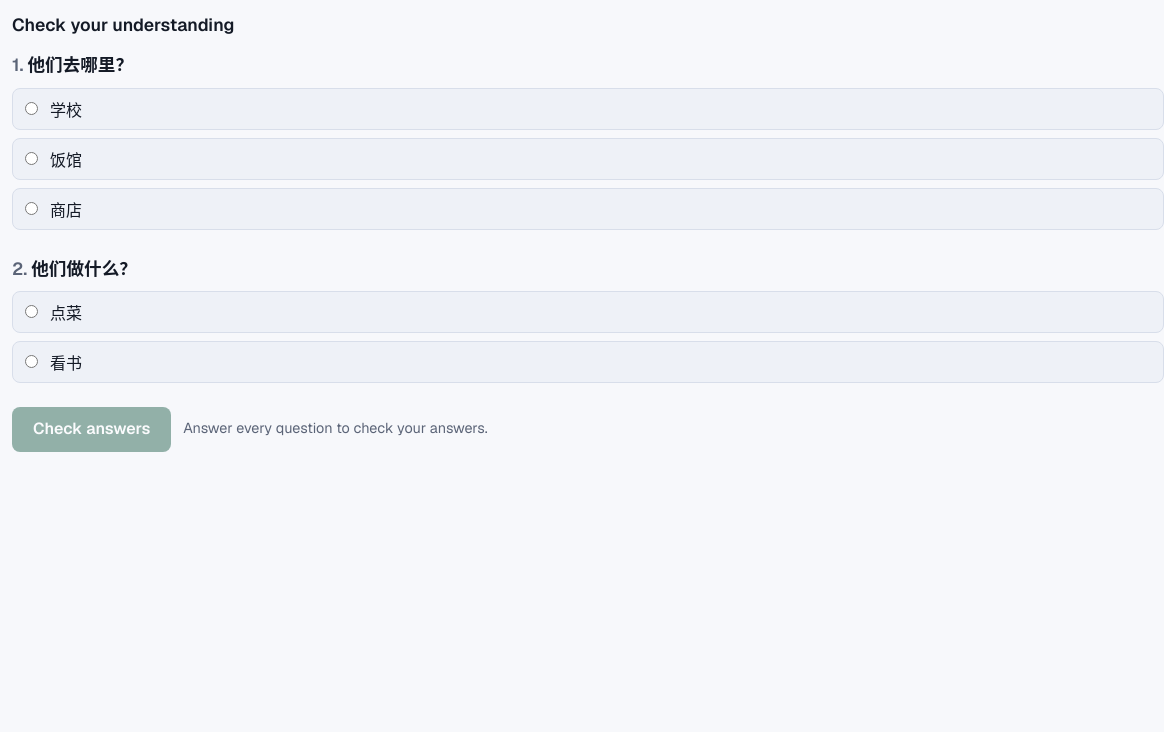
Test: StoryQuiz › starts over on try again
Click the radio button labelled "饭馆": click(32, 158) [25,152,38,165]
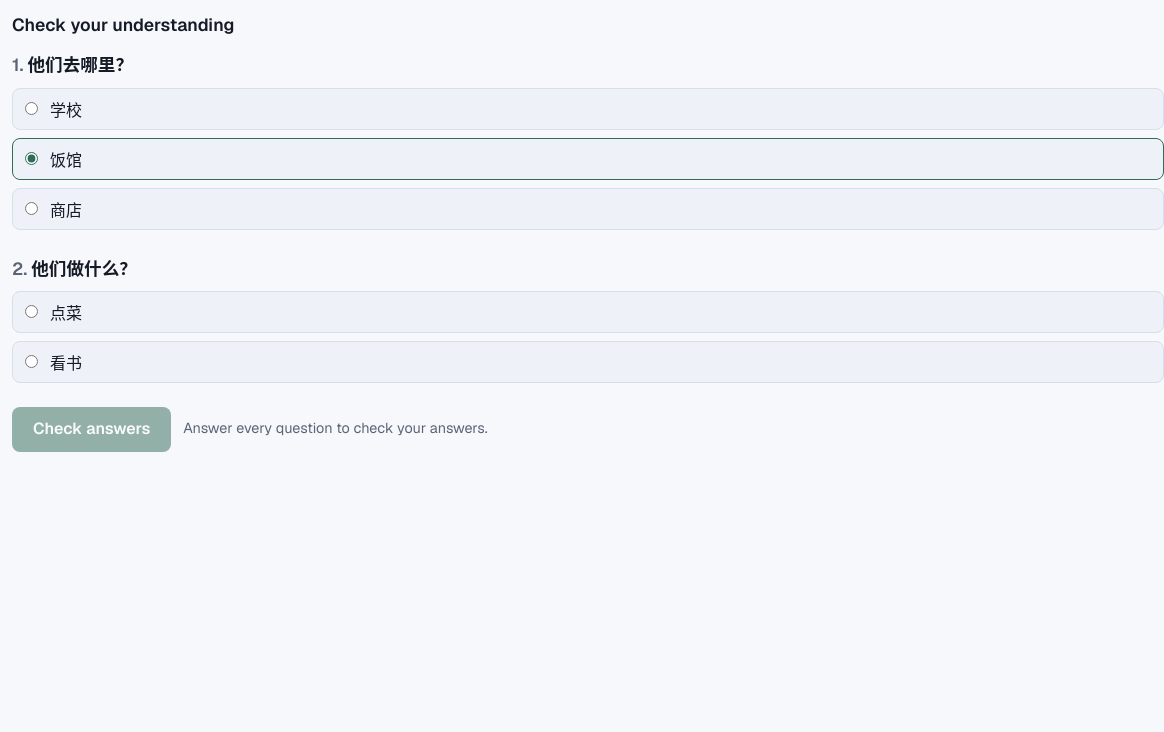
Click the radio button labelled "看书": click(32, 362) [25,355,38,368]
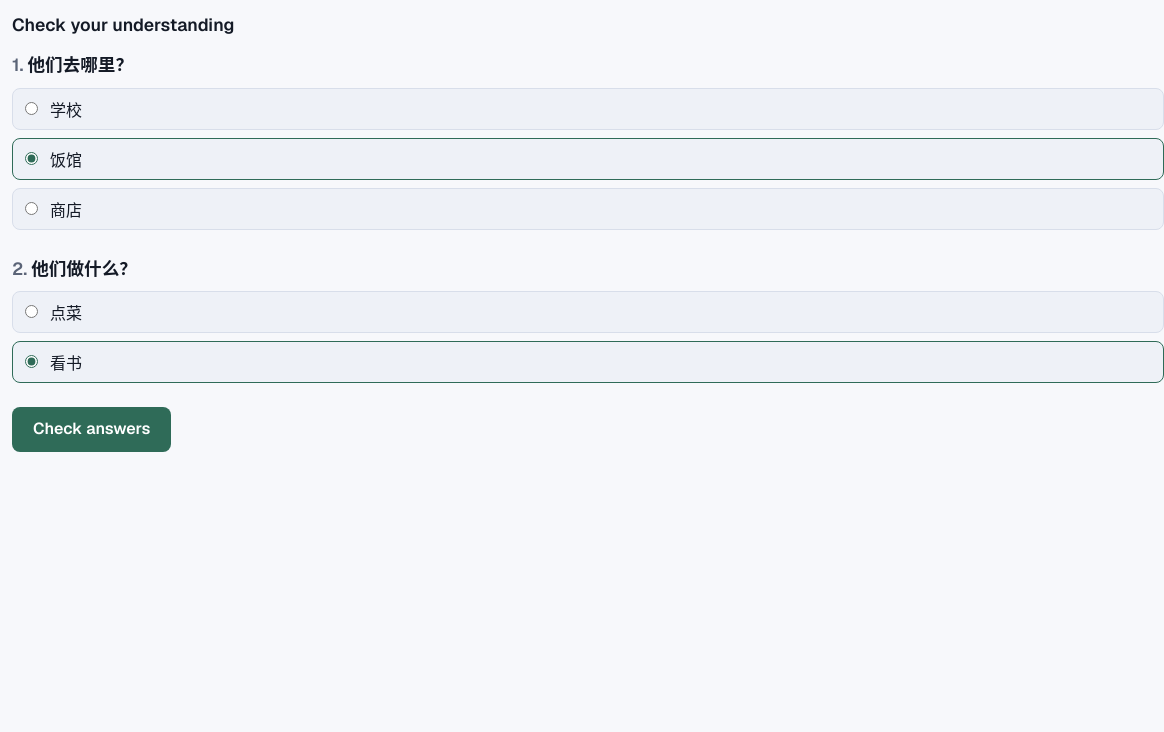
Click the button "Check answers": click(92, 429) [12,407,171,452]
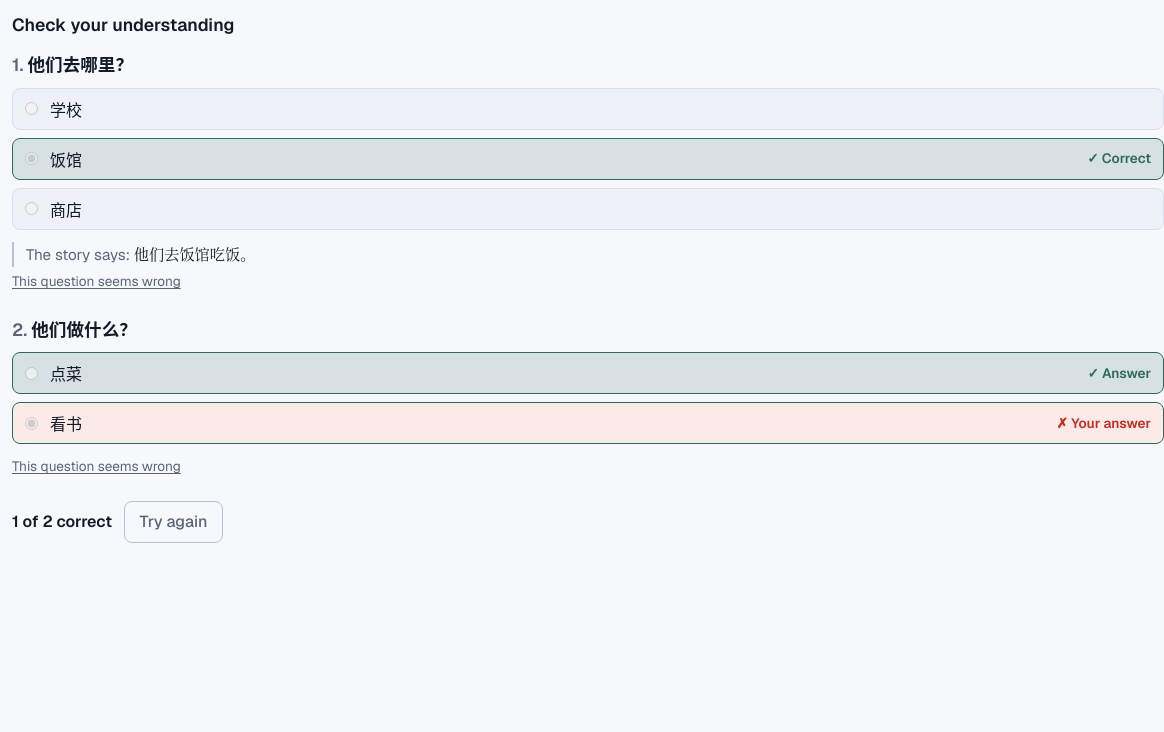
Result: the message "1 of 2 correct" is shown at [12,510,112,534]
Click the button "Try again": click(174, 522) [124,501,223,543]
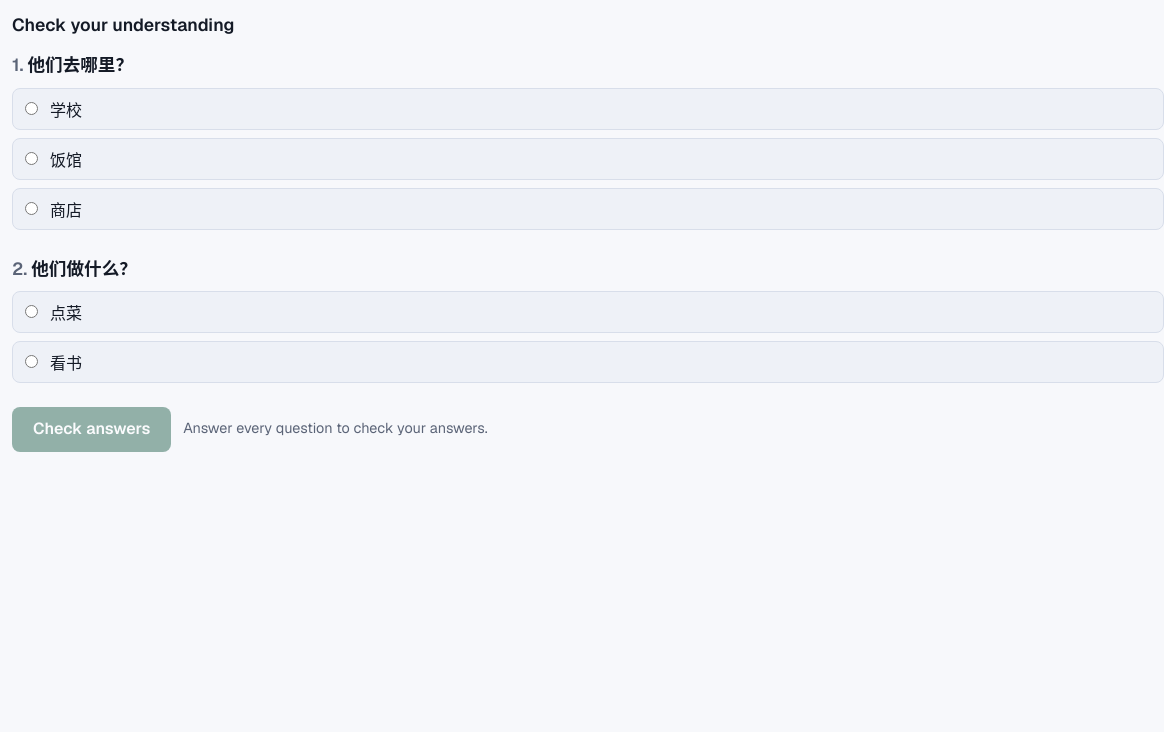
Result: the radio button labelled "饭馆" is not checked at [25,152,38,165]
Result: the radio button labelled "看书" is not checked at [25,355,38,368]
Result: the message "1 of 2 correct" is gone
